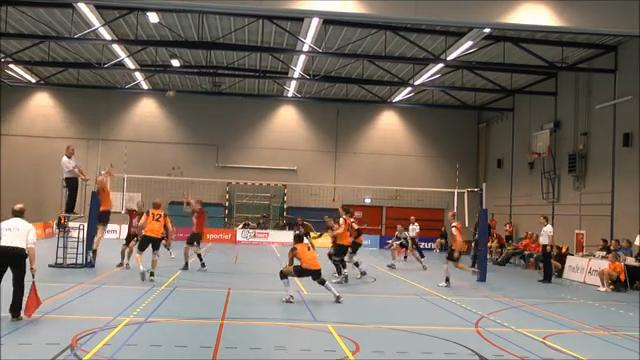attacco: (86, 157, 115, 260)
